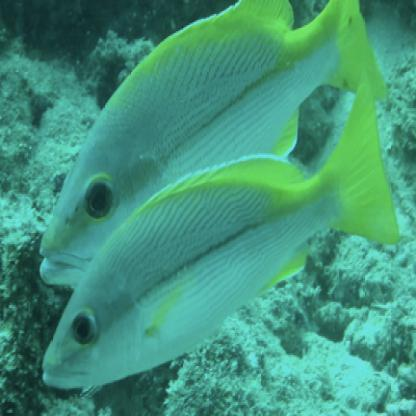Lutjanidae -Snappers-: (40, 65, 402, 400), (38, 1, 389, 298)
